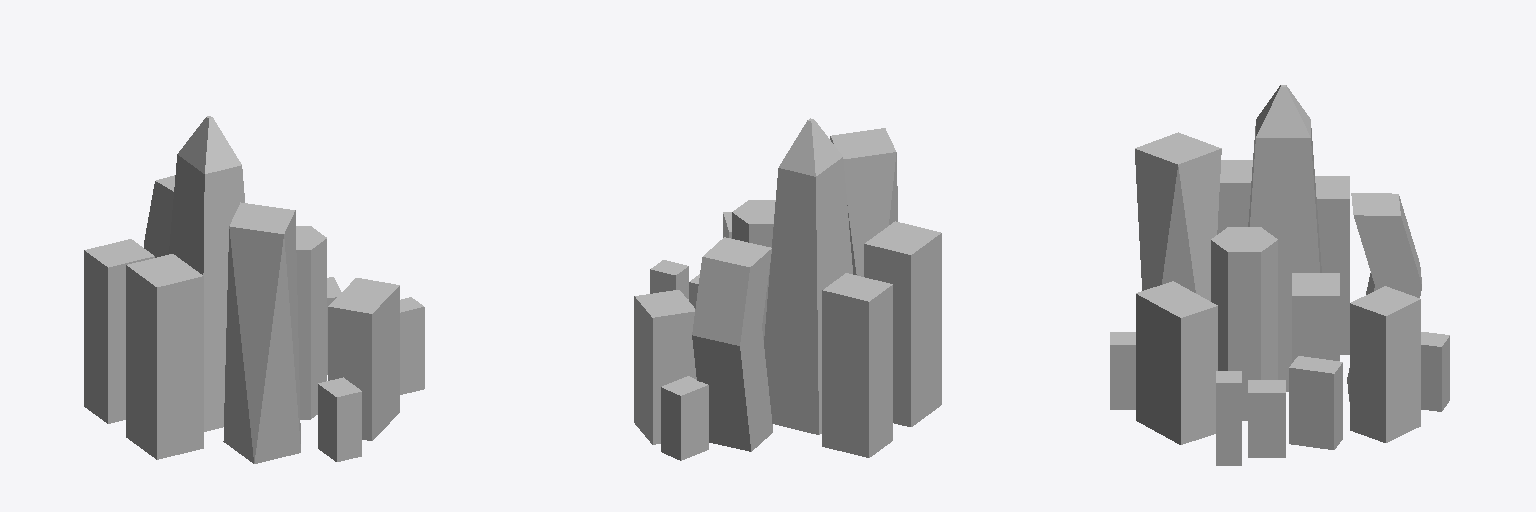
File: city.obj
3 renders of one model, left to right at view 1: azimuth 30°, elevation 25°; view 2: azimuth 150°, elevation 25°; view 3: azimuth 270°, elevation 25°, orthographic.
Visible parts, largest first — view 1: Cube.006; view 2: Cube.006; view 3: Cube.006.
Part boxes in pixels (bbox=[...]): Cube.006: bbox=[84, 116, 424, 463]; Cube.006: bbox=[634, 118, 941, 460]; Cube.006: bbox=[1110, 85, 1449, 465].
Bounding box in the file's own units: 0.8953 × 0.9288 × 0.967.